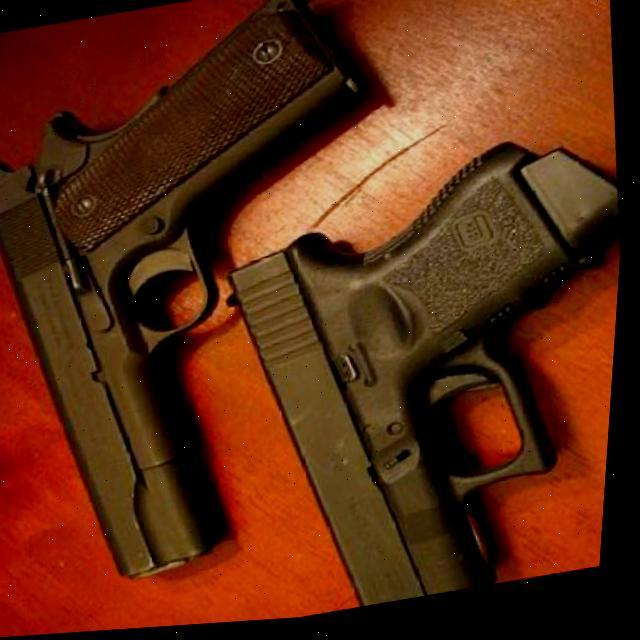gun: (0, 0, 424, 608), (198, 120, 632, 628)
